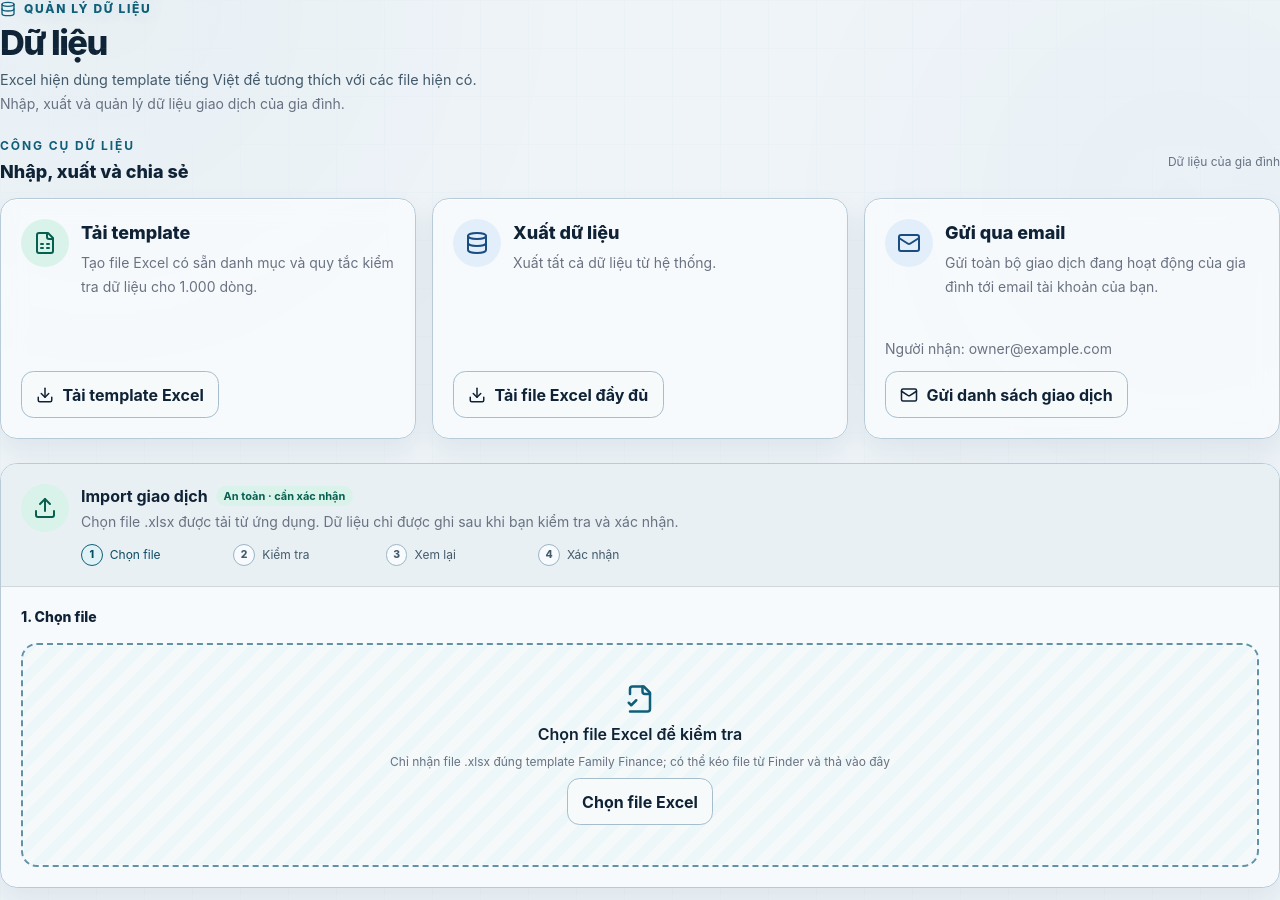
Test: Gửi danh sách giao dịch qua email › owner gửi tới email tài khoản hiện tại
Expected: the number of elements with class "data-card" is 3, left=0, top=198, right=416, bottom=439; left=432, top=198, right=848, bottom=439; left=864, top=198, right=1279, bottom=439
Expected: the number of elements with class "data-card-actions" is 3, left=21, top=371, right=219, bottom=418; left=453, top=371, right=664, bottom=418; left=885, top=340, right=1128, bottom=418
Click the button "Gửi danh sách giao dịch".
click(1007, 395)  # box left=885, top=371, right=1128, bottom=418
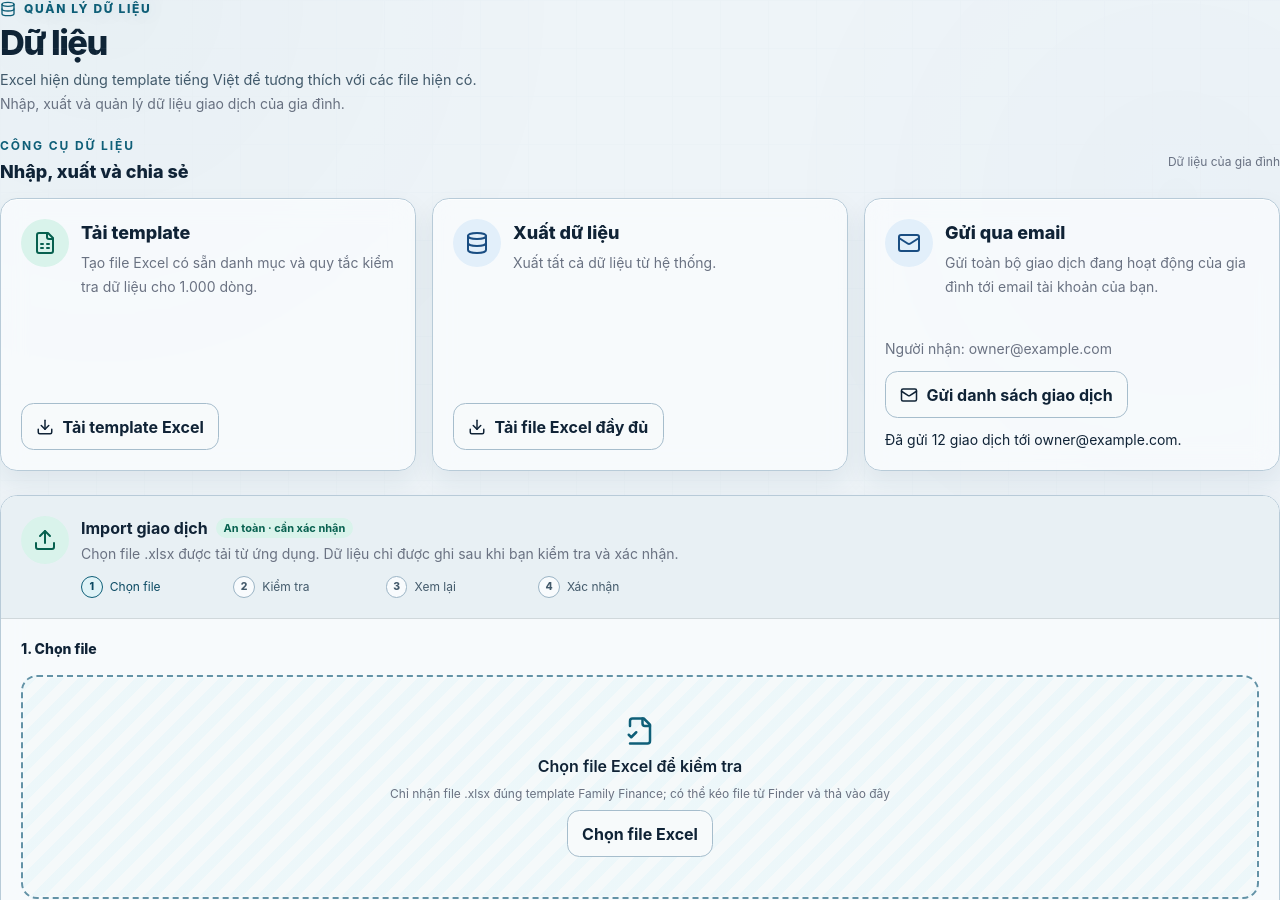
Expected: the text "Đã gửi 12 giao dịch tới owner@example.com." is shown, left=885, top=431, right=1182, bottom=448
